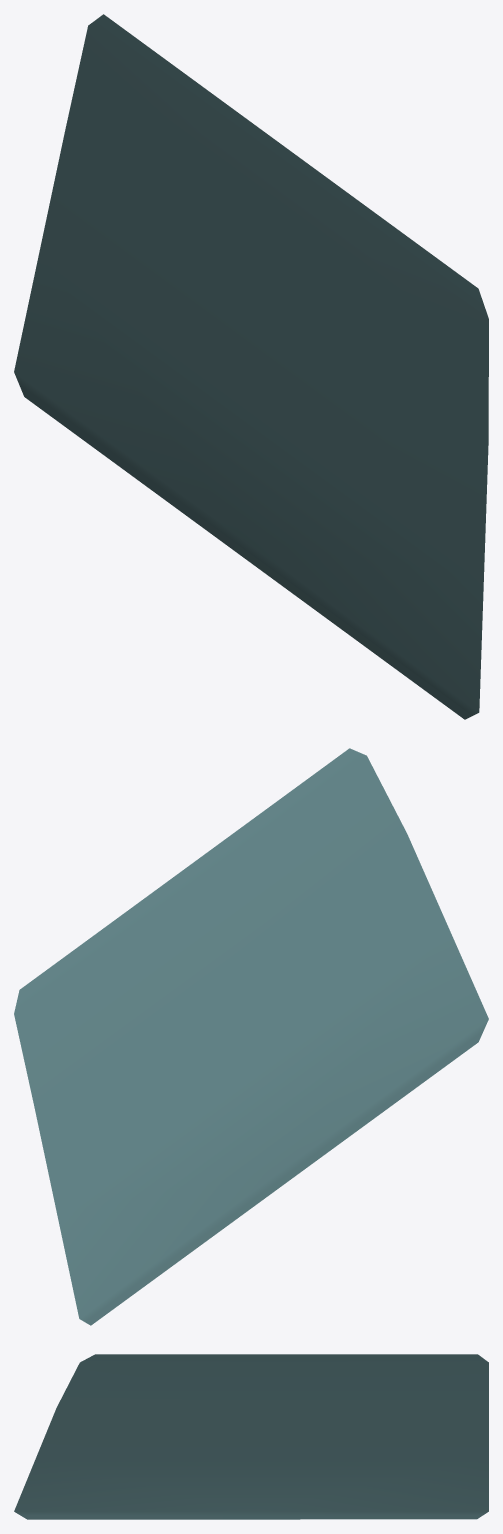
Rendered from Offroad_1_Window_Tessellate_FR.fbx.
3 views of the same model, one above another, from view 1: azimuth 30°, elevation 25°; view 2: azimuth 150°, elevation 25°; view 3: azimuth 270°, elevation 25° (orthographic). The views are drawn at different scales.
Visible parts, largest first — view 1: Offroad_1_Window_Tessellate_FR; view 2: Offroad_1_Window_Tessellate_FR; view 3: Offroad_1_Window_Tessellate_FR.
Boxes of the visible parts, left/top/right/bottom form: Offroad_1_Window_Tessellate_FR: left=14, top=14, right=488, bottom=719; Offroad_1_Window_Tessellate_FR: left=14, top=748, right=488, bottom=1325; Offroad_1_Window_Tessellate_FR: left=14, top=1354, right=488, bottom=1519.
Bounding box in the file's own units: 7.86 × 33.97 × 78.92.
